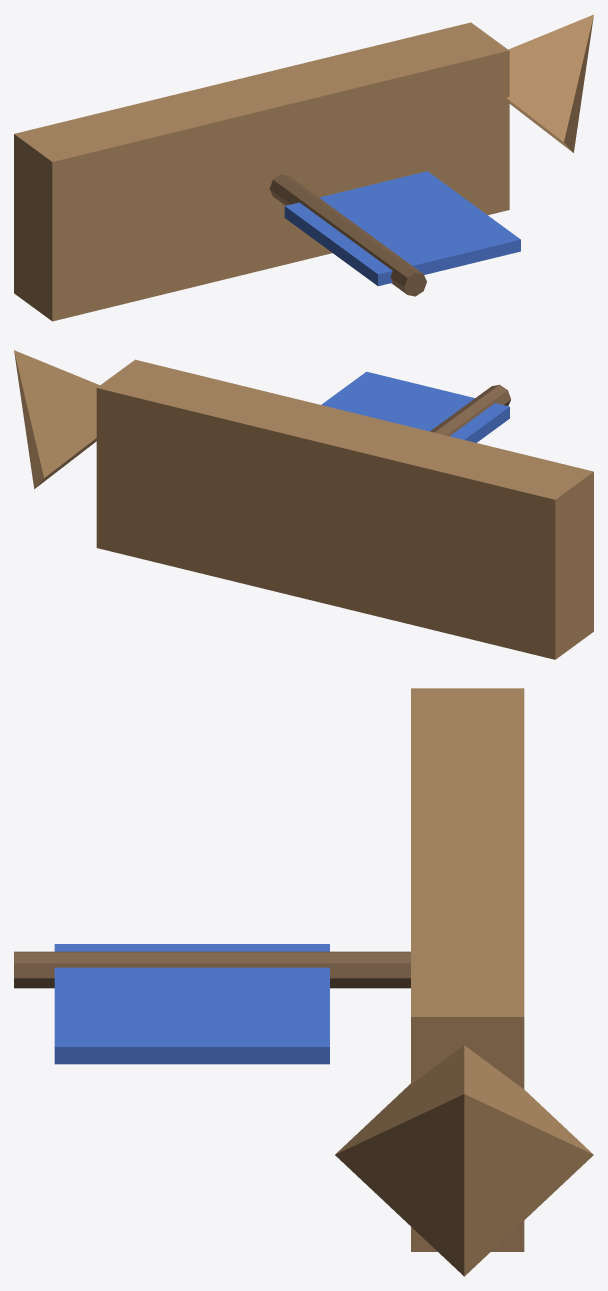
Rendered from small_row_boat.glb.
3 renders of one model, top to bottom at view 1: azimuth 30°, elevation 25°; view 2: azimuth 150°, elevation 25°; view 3: azimuth 270°, elevation 25°, orthographic. The views are drawn at different scales.
Visible parts, largest first — view 1: hull, sail, bow, mast; view 2: hull, bow, sail, mast; view 3: hull, bow, sail, mast.
Boxes of the visible parts, x1=… form: hull: x1=14, y1=22, x2=509, y2=321; sail: x1=284, y1=171, x2=520, y2=286; bow: x1=507, y1=14, x2=593, y2=152; mast: x1=269, y1=174, x2=426, y2=296; hull: x1=96, y1=359, x2=593, y2=659; bow: x1=14, y1=350, x2=99, y2=488; sail: x1=321, y1=371, x2=509, y2=442; mast: x1=430, y1=384, x2=510, y2=436; hull: x1=411, y1=688, x2=524, y2=1251; bow: x1=335, y1=1045, x2=593, y2=1276; sail: x1=54, y1=944, x2=329, y2=1064; mast: x1=14, y1=951, x2=410, y2=988.
Bounding box in the file's own units: 2.94 × 0.8 × 1.79.
